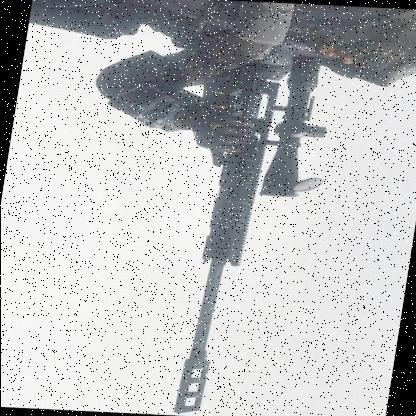rifle: (140, 44, 340, 416)
